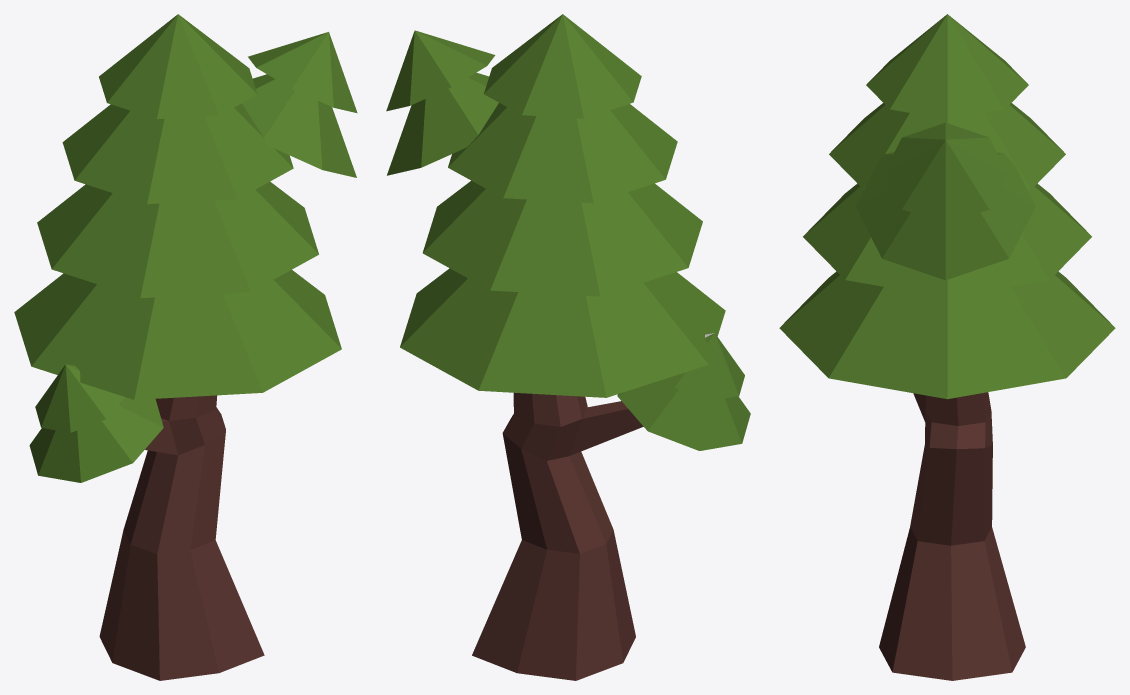
Rendered from tree 1.fbx.
The picture shows the model from 3 angles, left to right: view 1: azimuth 30°, elevation 25°; view 2: azimuth 150°, elevation 25°; view 3: azimuth 270°, elevation 25°; orthographic projection.
Parts seen in each view (by area): view 1: Tree; view 2: Tree; view 3: Tree.
Boxes of the visible parts, x1,y1,x2,y2 form: Tree: (14, 14, 357, 680); Tree: (386, 14, 750, 680); Tree: (779, 14, 1115, 680).
Bounding box in the file's own units: 488 × 897 × 434.
